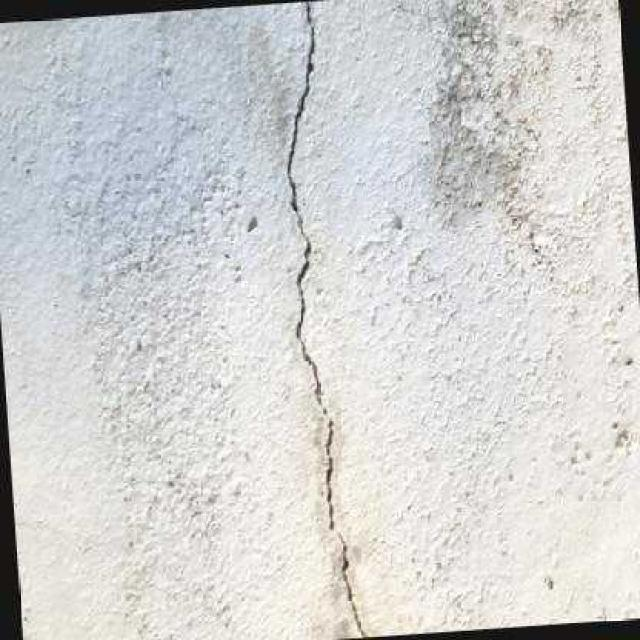D00: (284, 0, 368, 638)
